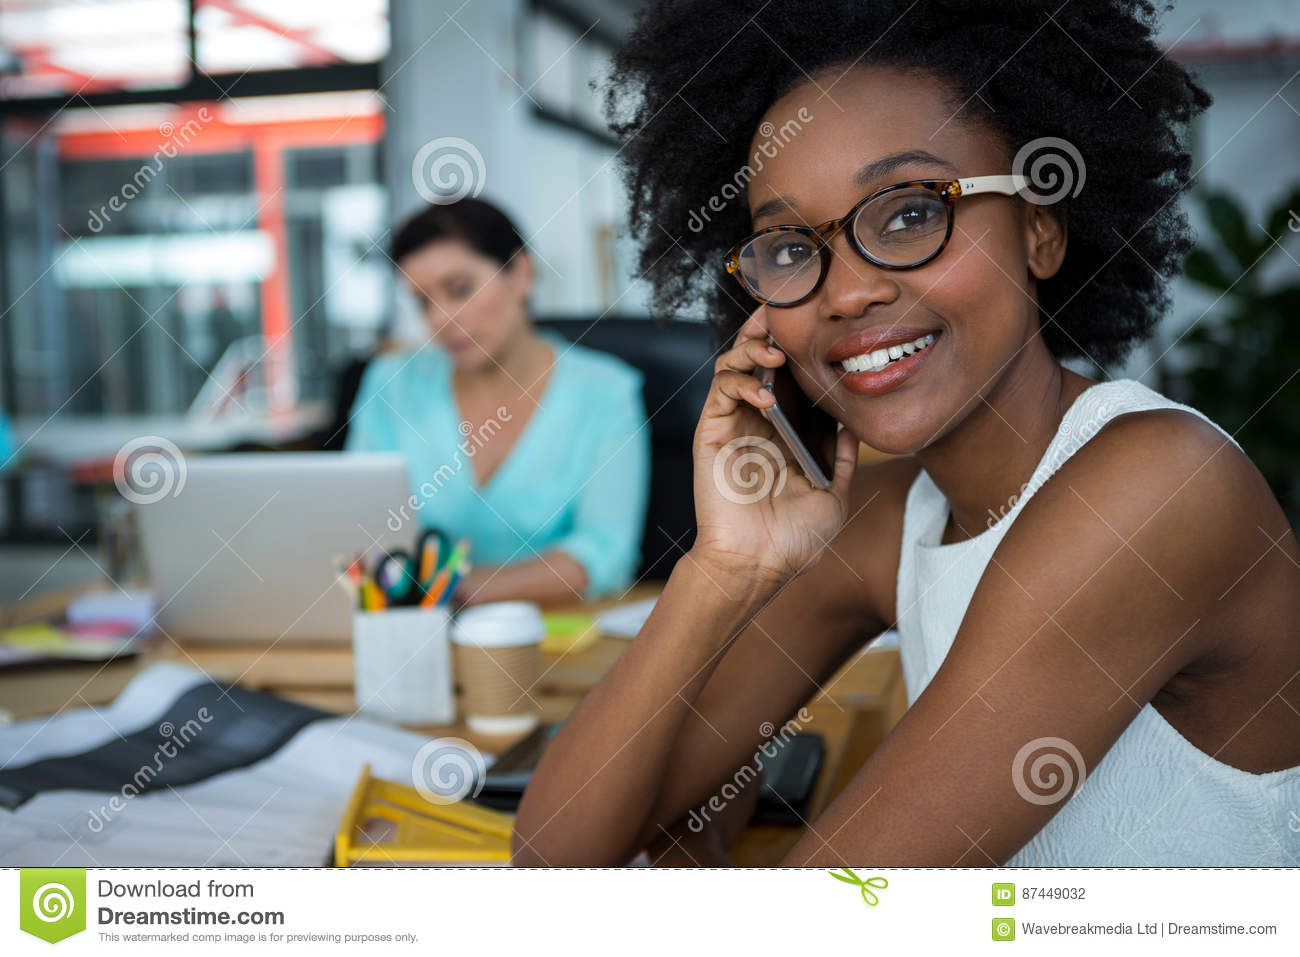phone: (742, 304, 851, 497)
talk: (689, 128, 977, 589)
